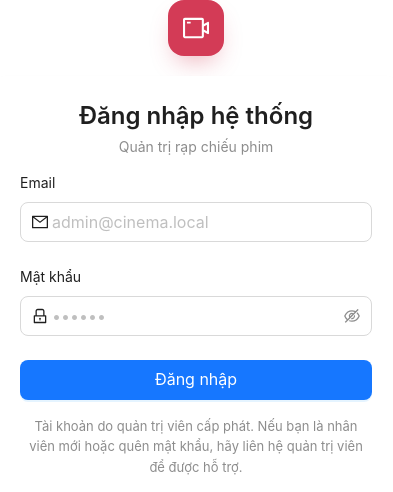
LoginPage › bao loi validate khi submit form rong
Click the button "Đăng nhập" at (196, 380), box [20,360,372,400]
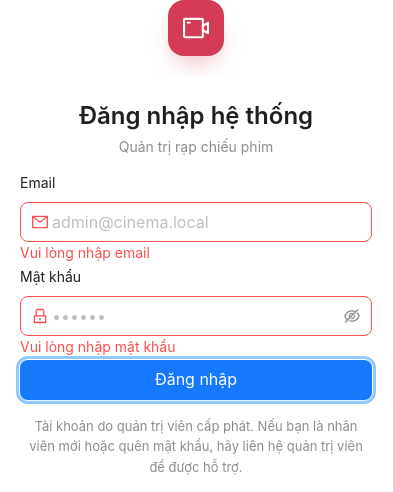
Check: the text "Vui lòng nhập email" is shown, box [20,244,150,261]
Check: the text "Vui lòng nhập mật khẩu" is shown, box [20,338,176,355]
